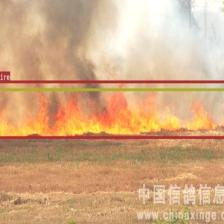fire: (0, 80, 224, 138)
smoke: (0, 0, 224, 90)
